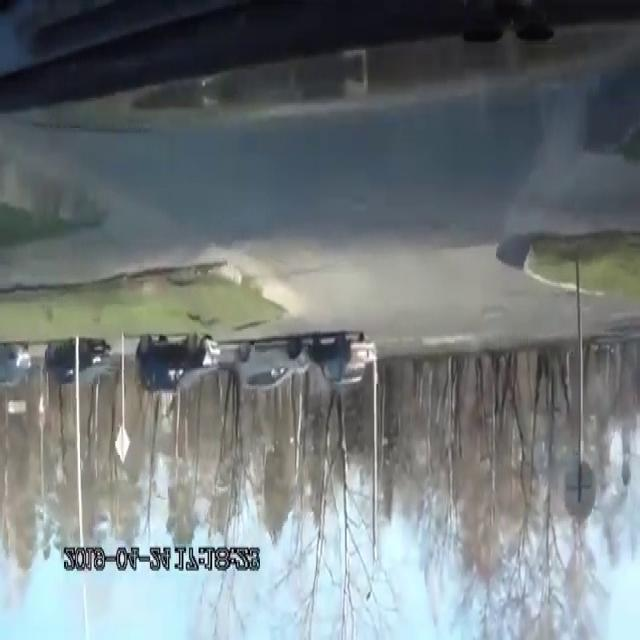moderate: (235, 322, 372, 414)
